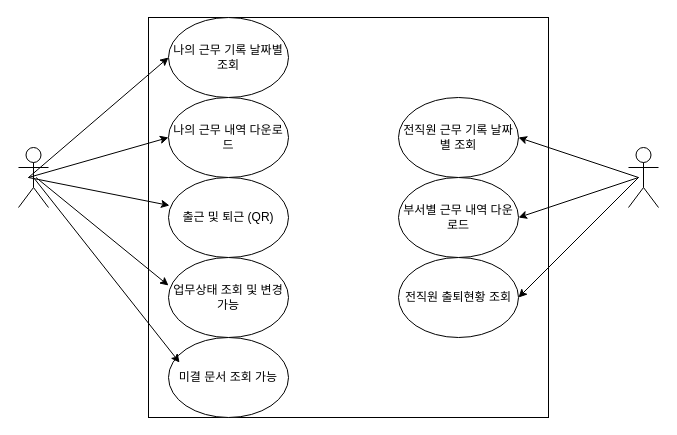
Some shapes in this 677 by 435 pixel diagram are drawn without their labels. The shapes that lost their labels are listed below. From the top down, each one's centre as x and y in pixels, then its label:
the point at 33,177: 사용자
the point at 643,177: 관리자
